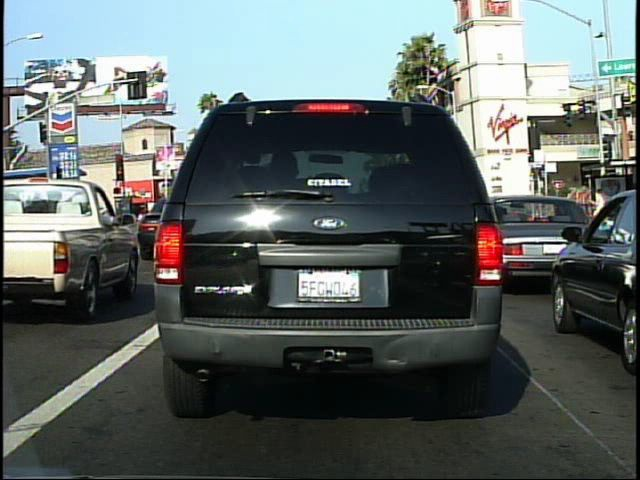person: (587, 184, 609, 242)
